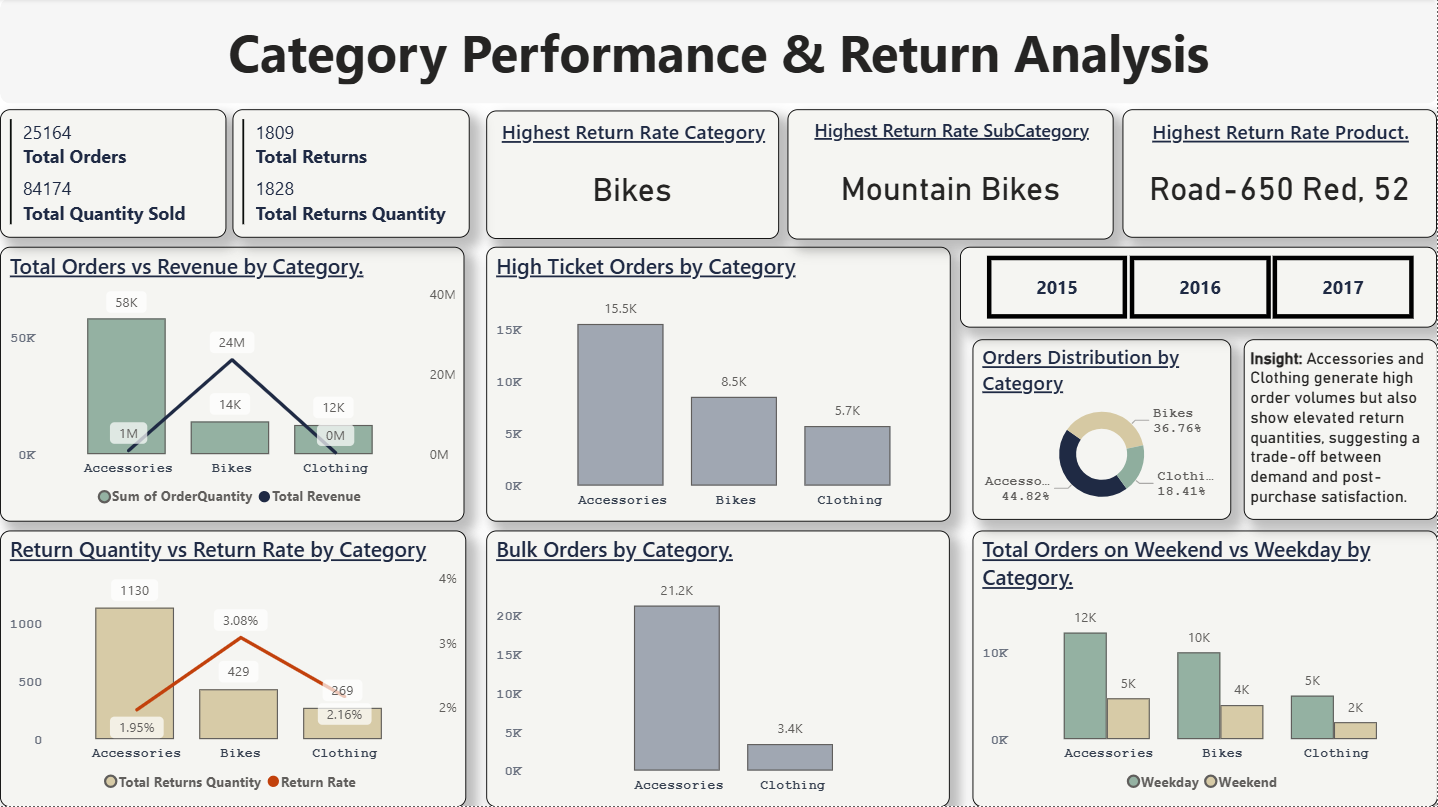

The page's visual inventory and layout, read from the dashboard file:
{"tool":"powerbi","page":{"name":"Ctaegory","canvas":[1280,720],"ordinal":0},"visuals":[{"type":"card","title":"Highest Return Rate Category","fields":{"Values":["Min(Products.CategoryName)"]},"box":[433.1,100.1,260.6,114.6],"z":0},{"type":"lineClusteredColumnComboChart","title":"Total Orders vs Revenue  by Category.","fields":{"Category":["Products.Category Hierarchy.CategoryName","Products.Category Hierarchy.SubcategoryName","Products.Category Hierarchy.ProductName"],"Y":["Sum(Sales.OrderQuantity)"],"Y2":["Sales.Total Revenue"]},"box":[0,222,413.8,244.9],"z":1000},{"type":"lineClusteredColumnComboChart","title":"Return Quantity vs Return Rate by Category","fields":{"Category":["Products.Category Hierarchy.CategoryName","Products.Category Hierarchy.SubcategoryName","Products.Category Hierarchy.ProductName"],"Y":["Returns.Total Returns Quantity"],"Y2":["Returns.Return Rate"]},"box":[0,474.2,415.2,246],"z":2000},{"type":"clusteredColumnChart","title":"High Ticket Orders by Category","fields":{"Category":["Products.Category Hierarchy.CategoryName","Products.Category Hierarchy.SubcategoryName","Products.Category Hierarchy.ProductName"],"Y":["Sales.High Ticket Orders"]},"box":[433.1,222,413.8,244.9],"z":3000},{"type":"clusteredColumnChart","title":"Total Orders on Weekend vs Weekday by Category.","fields":{"Y":["Sales.Total Orders"],"Series":["Calender_Table.Is_Weekend"],"Category":["Products.CategoryName"]},"box":[866.1,474.2,414.1,246],"z":4000},{"type":"card","title":"Highest Return Rate SubCategory","fields":{"Values":["Min(Products.SubcategoryName)"]},"box":[700.9,98.9,290.8,115.8],"z":5000},{"type":"card","title":"Highest Return Rate Product.","fields":{"Values":["Min(Products.ProductName)"]},"box":[1000.1,98.9,279.9,114.6],"z":6000},{"type":"donutChart","title":"Orders Distribution by Category","fields":{"Y":["Sales.Total Orders"],"Category":["Products.CategoryName"]},"box":[866.2,304,230.4,160.5],"z":7000},{"type":"multiRowCard","fields":{"Values":["Sales.Total Orders","Sales.Total Quantity Sold"]},"box":[0,98.9,201.5,114.6],"z":8000},{"type":"multiRowCard","fields":{"Values":["Returns.Total Returns","Returns.Total Returns Quantity"]},"box":[207.5,98.9,211.1,114.6],"z":9000},{"type":"clusteredColumnChart","title":"Bulk Orders by Category.","fields":{"Y":["Sales.Bulk Orders"],"Category":["Products.Category Hierarchy.CategoryName","Products.Category Hierarchy.SubcategoryName","Products.Category Hierarchy.ProductName"]},"box":[433,474.2,413,246],"z":10000},{"type":"slicer","fields":{"Values":["Calender_Table.Year"]},"box":[855.4,222,424.7,72.4],"z":11000},{"type":"shape","box":[0,0,1280,94],"z":12000},{"type":"textbox","box":[1107.5,304,172.5,160.5],"z":12001}]}

Visuals, with their boxes in screenshot pixels (x1, y1, x2, y2), scaled from the page's 1280x720 canvas onto the 1438x807 screenshot:
"Highest Return Rate Category" card: (487, 112, 779, 241)
"Total Orders vs Revenue  by Category." lineClusteredColumnComboChart: (0, 249, 465, 523)
"Return Quantity vs Return Rate by Category" lineClusteredColumnComboChart: (0, 531, 466, 806)
"High Ticket Orders by Category" clusteredColumnChart: (487, 249, 951, 523)
"Total Orders on Weekend vs Weekday by Category." clusteredColumnChart: (973, 531, 1437, 806)
"Highest Return Rate SubCategory" card: (787, 111, 1114, 241)
"Highest Return Rate Product." card: (1124, 111, 1437, 239)
"Orders Distribution by Category" donutChart: (973, 341, 1232, 521)
multiRowCard - Sales.Total Orders x Sales.Total Quantity Sold: (0, 111, 226, 239)
multiRowCard - Returns.Total Returns x Returns.Total Returns Quantity: (233, 111, 470, 239)
"Bulk Orders by Category." clusteredColumnChart: (486, 531, 950, 806)
slicer - Calender_Table.Year: (961, 249, 1437, 330)
shape: (0, 0, 1437, 105)
textbox: (1244, 341, 1437, 521)
